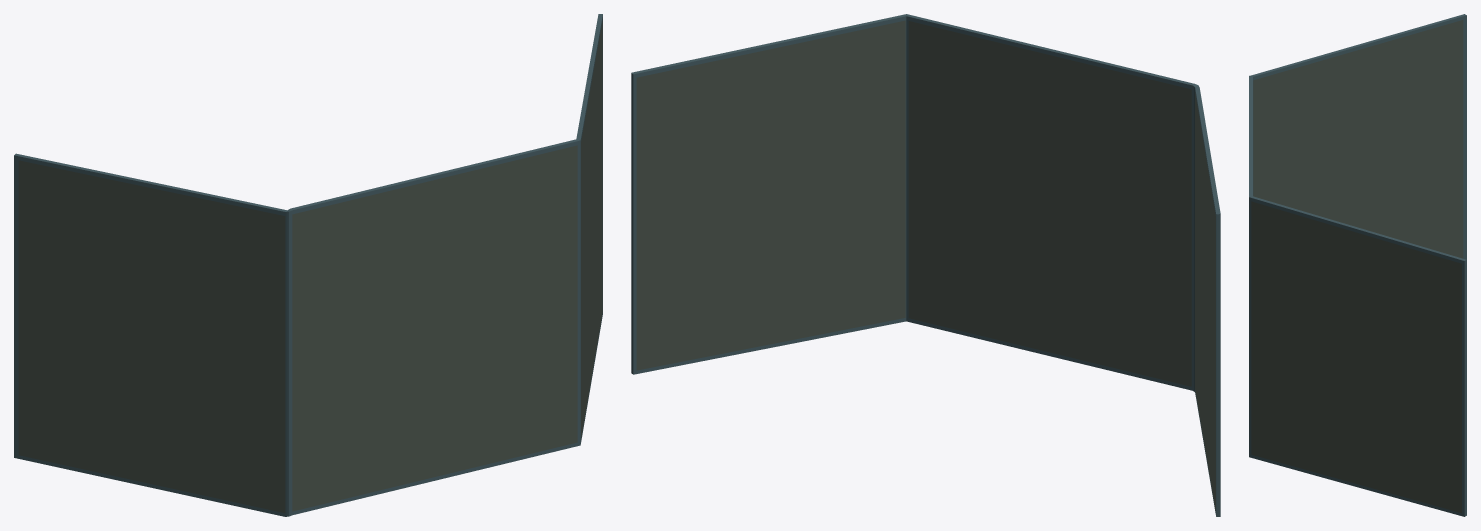
Rendered from Three_Rect_Shield.fbx.
3 renders of one model, left to right at view 1: azimuth 30°, elevation 25°; view 2: azimuth 150°, elevation 25°; view 3: azimuth 270°, elevation 25°, orthographic. The views are drawn at different scales.
Visible parts, largest first — view 1: Three_Rect_Shield; view 2: Three_Rect_Shield; view 3: Three_Rect_Shield.
Boxes of the visible parts, x1=… form: Three_Rect_Shield: x1=14, y1=14, x2=602, y2=516; Three_Rect_Shield: x1=631, y1=14, x2=1220, y2=516; Three_Rect_Shield: x1=1249, y1=14, x2=1466, y2=516.
Bounding box in the file's own units: 7.51 × 3.73 × 2.82.
